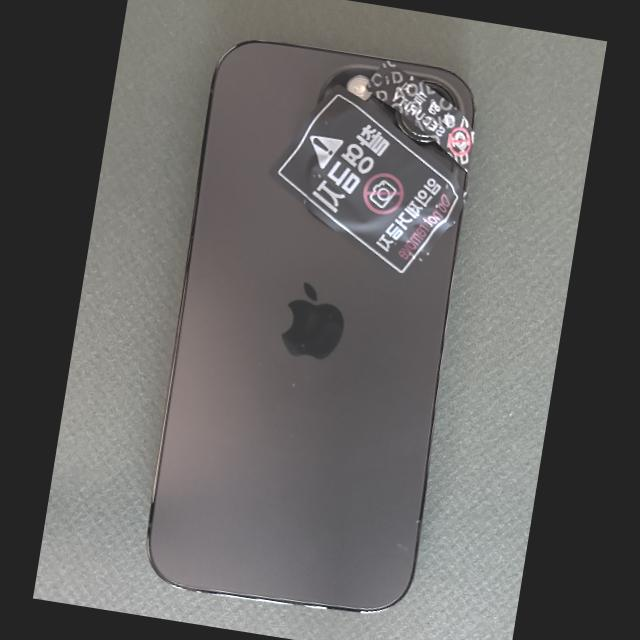lens: (394, 110, 433, 142)
phone: (146, 40, 476, 613)
sticker: (268, 85, 470, 281), (365, 60, 476, 173)
